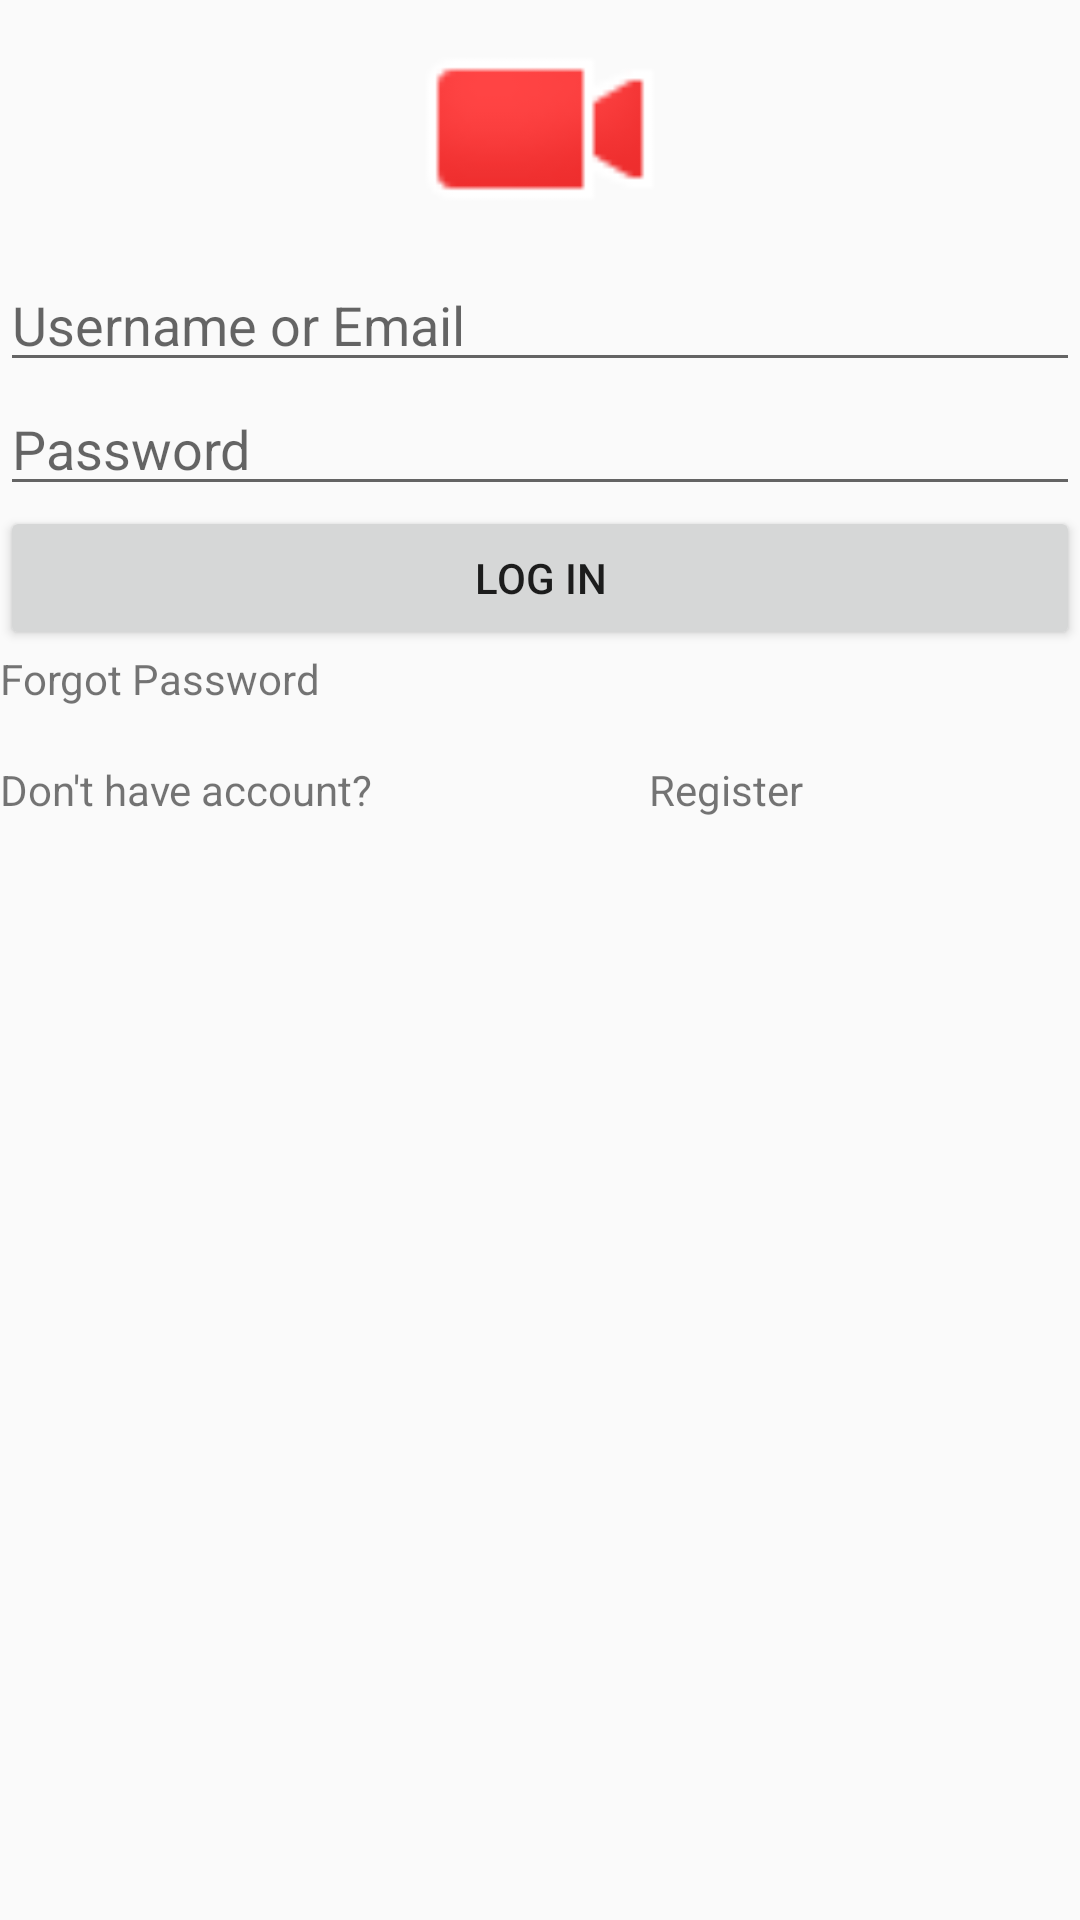

Icons on this 1080 × 1920 Android screen, each with its box as (left=x1, top=y1, right=x2, bottom=y2):
presence video busy: (left=436, top=68, right=644, bottom=190)
